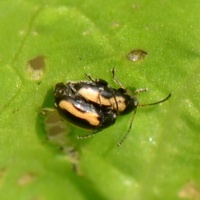insect: (40, 68, 170, 138)
